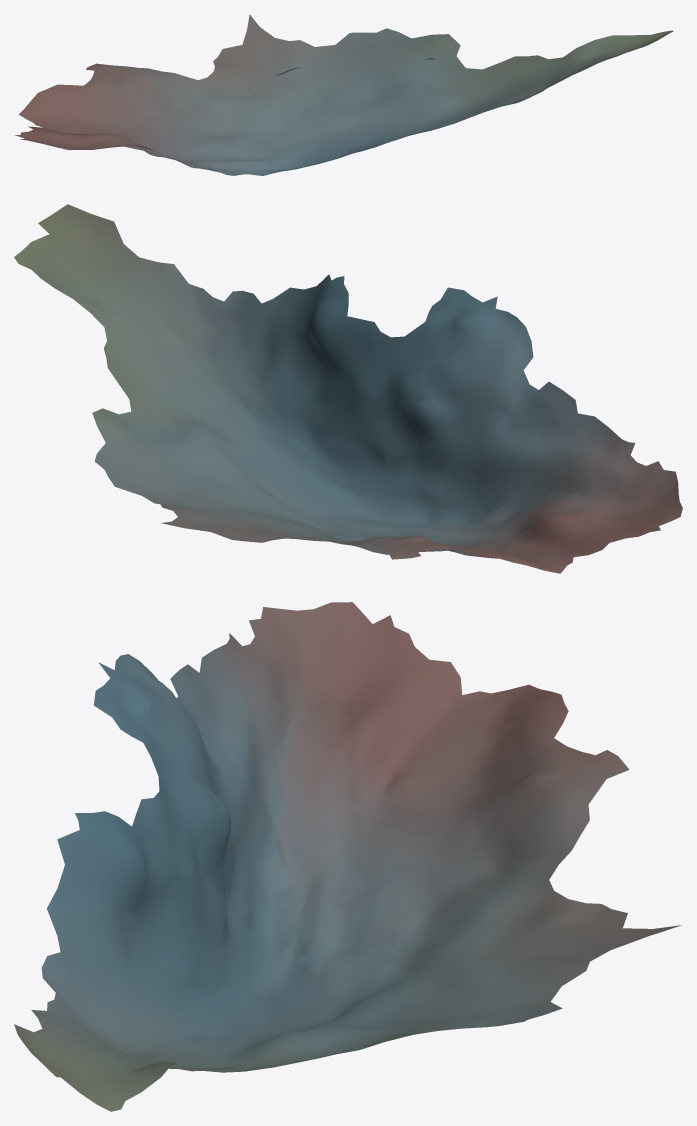
Rendered from LODS_Cloud_global_22.glb.
3 renders of one model, top to bottom at view 1: azimuth 30°, elevation 25°; view 2: azimuth 150°, elevation 25°; view 3: azimuth 270°, elevation 25°, orthographic. The views are drawn at different scales.
Visible parts, largest first — view 1: LOD0; view 2: LOD0; view 3: LOD0.
Part boxes in pixels (x1=…): LOD0: x1=15, y1=14, x2=673, y2=175; LOD0: x1=14, y1=204, x2=682, y2=573; LOD0: x1=14, y1=602, x2=681, y2=1111.
Size of what is drawn, in the model's own units: 0.3048 by 0.0739 by 0.1615.
